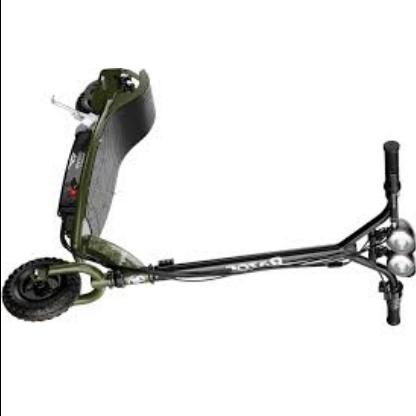bike: (3, 66, 415, 325)
